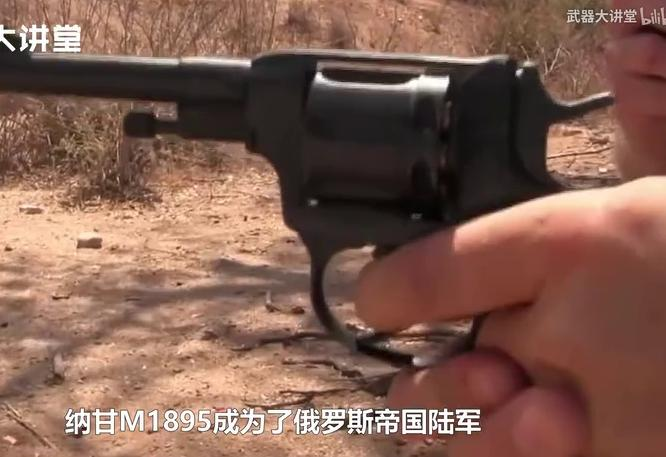gun: (1, 0, 666, 457)
